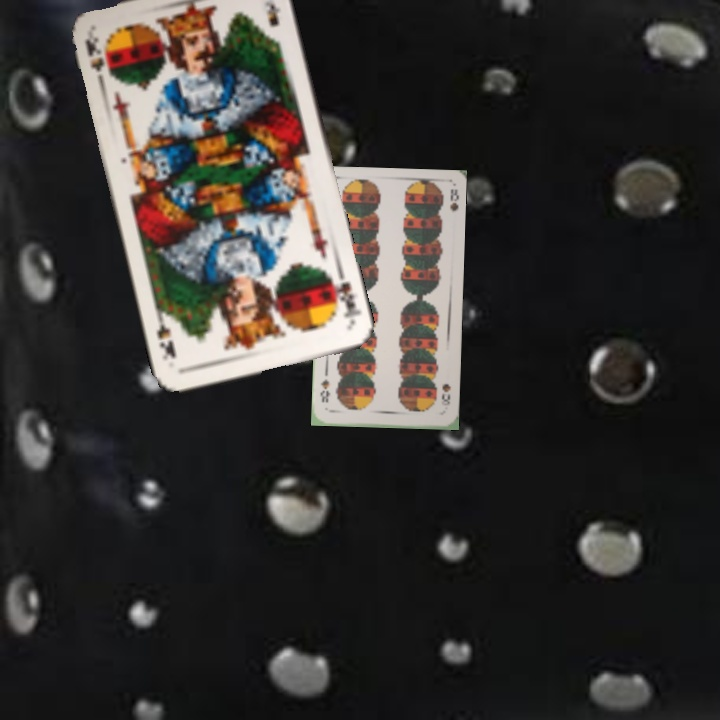S8: (437, 379, 453, 407)
SK: (326, 268, 363, 328), (81, 32, 108, 91)
